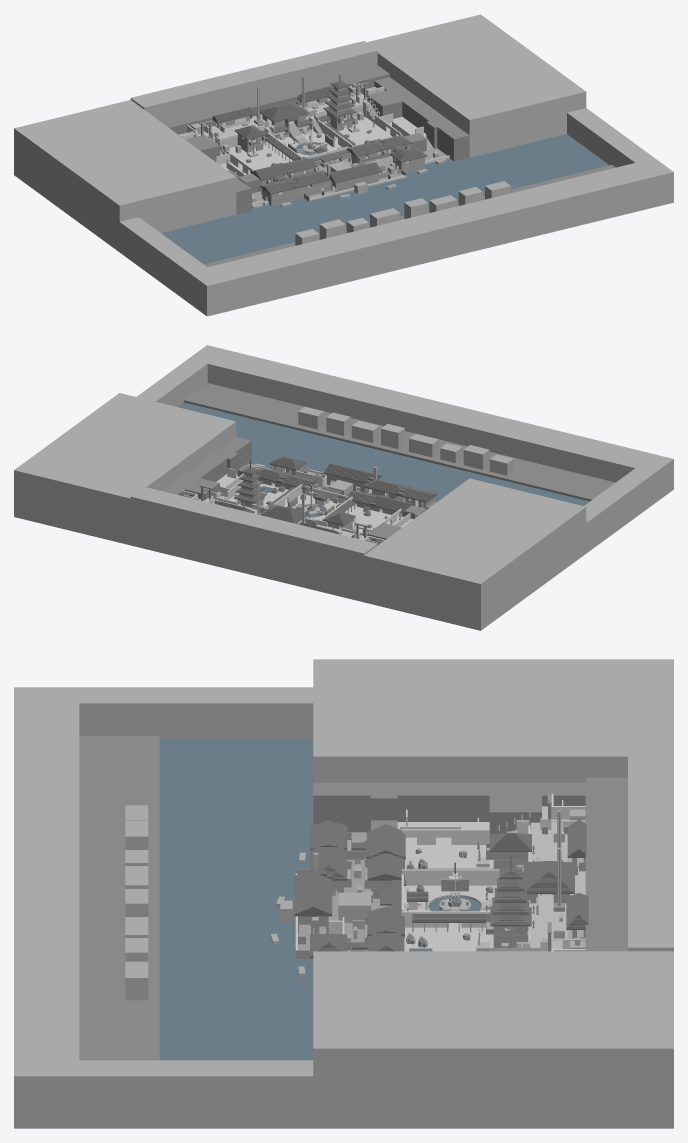
File: katana-grey.glb
3 views of the same model, one above another, from view 1: azimuth 30°, elevation 25°; view 2: azimuth 150°, elevation 25°; view 3: azimuth 270°, elevation 25° (orthographic). The views are drawn at different scales.
Visible parts, largest first — view 1: kv3_cover, kv3_water, kv3_rock, kv3_roof, kv3_wood, kv3_plaster, kv3_gravel, kv3_ground-terrace, kv3_floor, kv3_ground-town, kv3_stair, kv3_stone-dark; view 2: kv3_cover, kv3_rock, kv3_water, kv3_roof, kv3_plaster, kv3_wood, kv3_gravel, kv3_stone-dark; view 3: kv3_cover, kv3_water, kv3_rock, kv3_roof, kv3_plaster, kv3_gravel, kv3_wood, kv3_ground-terrace, kv3_stone-dark, kv3_ground-town, kv3_floor.
Part boxes in pixels (box(x1,y1,x2,y2)): kv3_cover: box(14, 14, 673, 316); kv3_water: box(161, 134, 608, 264); kv3_rock: box(157, 65, 615, 267); kv3_roof: box(212, 74, 427, 194); kv3_wood: box(215, 87, 424, 204); kv3_plaster: box(181, 83, 449, 205); kv3_gravel: box(220, 116, 426, 176); kv3_ground-terrace: box(178, 87, 376, 147); kv3_floor: box(215, 98, 424, 199); kv3_ground-town: box(252, 148, 446, 205); kv3_stair: box(214, 103, 433, 160); kv3_stone-dark: box(211, 94, 386, 172); kv3_cover: box(14, 345, 673, 630); kv3_rock: box(162, 383, 615, 541); kv3_water: box(178, 402, 589, 517); kv3_roof: box(215, 455, 437, 533); kv3_plaster: box(181, 463, 419, 545); kv3_wood: box(238, 465, 434, 529); kv3_gravel: box(216, 474, 412, 533); kv3_stone-dark: box(214, 485, 400, 537); kv3_cover: box(14, 659, 673, 1128); kv3_water: box(159, 740, 481, 1060); kv3_rock: box(79, 736, 627, 1060); kv3_roof: box(294, 819, 588, 958); kv3_plaster: box(295, 793, 585, 951); kv3_gravel: box(397, 822, 496, 951); kv3_wood: box(295, 832, 585, 958); kv3_ground-terrace: box(528, 806, 585, 949); kv3_stone-dark: box(319, 825, 568, 947); kv3_ground-town: box(298, 832, 379, 950); kv3_floor: box(332, 840, 585, 951).
Size of the model in its own units: 240 by 33.1 by 172.
